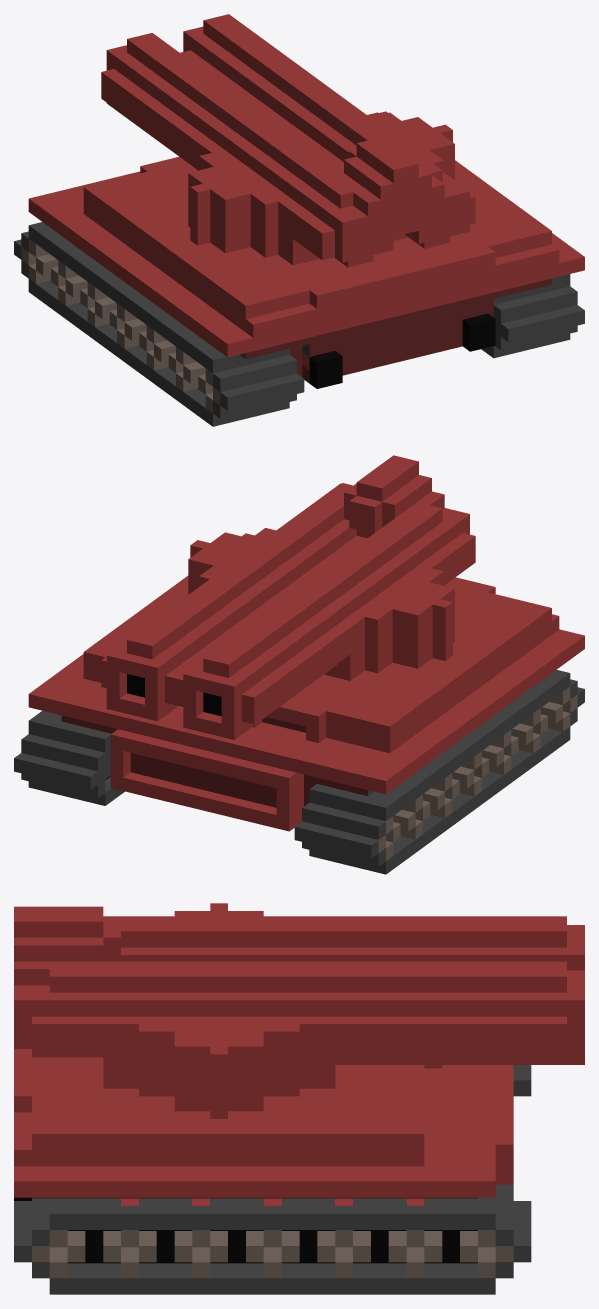
Rendered from tank_red.gltf.
3 renders of one model, top to bottom at view 1: azimuth 30°, elevation 25°; view 2: azimuth 150°, elevation 25°; view 3: azimuth 270°, elevation 25°, orthographic. The views are drawn at different scales.
Parts seen in each view (by area): view 1: test-Mesh; view 2: test-Mesh; view 3: test-Mesh.
Part boxes in pixels (<box>): test-Mesh: <box>14,14,584,426</box>; test-Mesh: <box>14,455,584,874</box>; test-Mesh: <box>14,903,584,1294</box>.
Size of the model in its own units: 28 by 17 by 32.
1 material, 1 textured.
